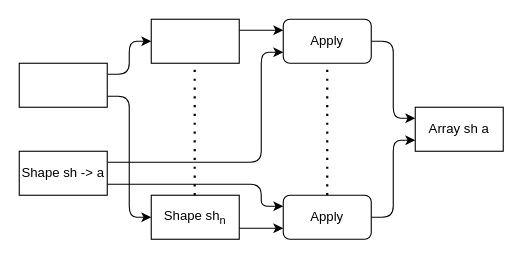
This 523x259 diagram has some shape labels left out. Here are the shapes that lost their labels. From the top down, the centre of each, then its label:
At (x=194, y=40): "Shape sh 0".
At (x=62, y=84): "Shape sh".
